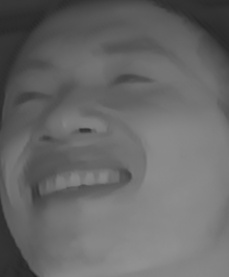eye: (107, 65, 157, 93), (7, 84, 58, 109)
mouth: (23, 157, 137, 208)
